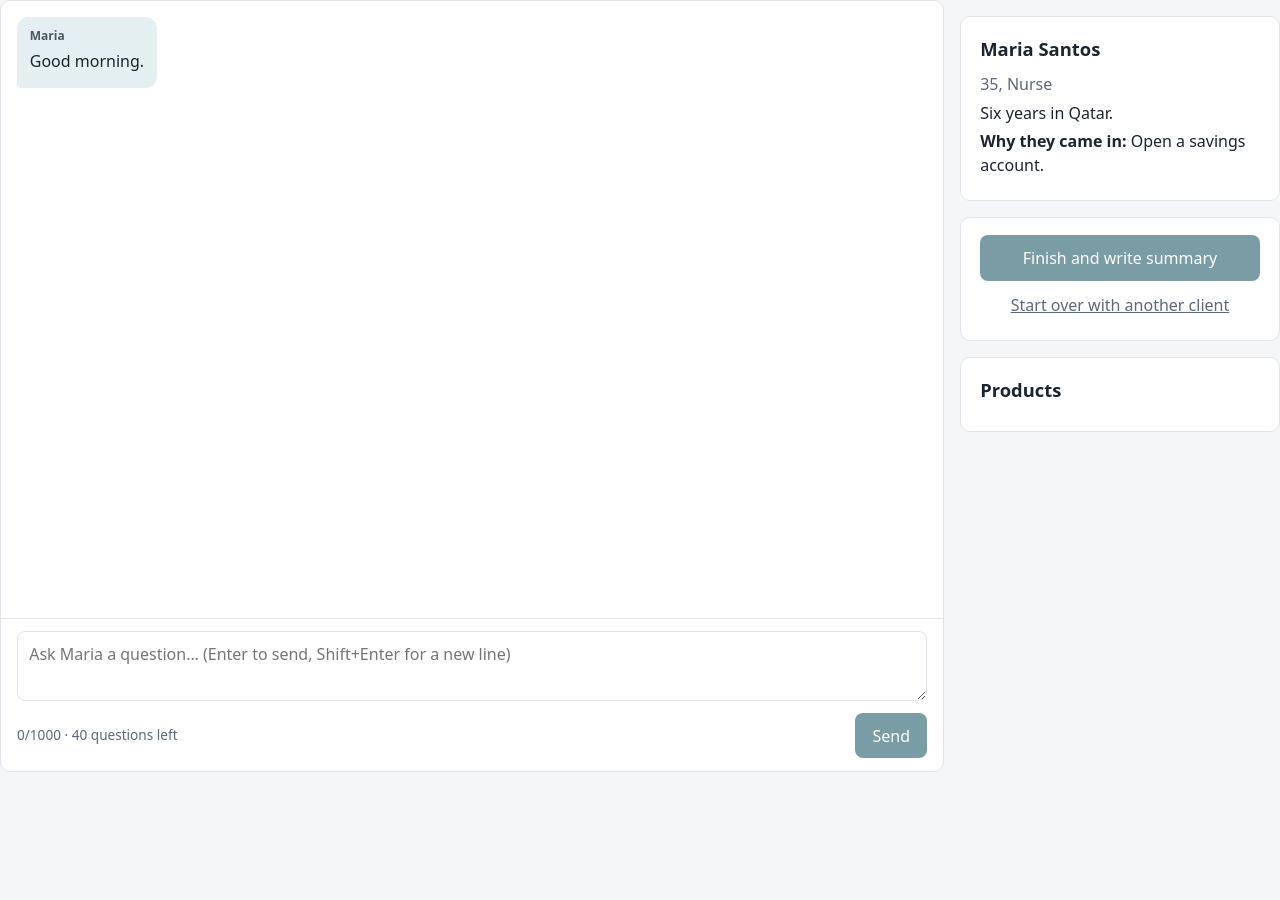
Test case: interview › puts the question back in the box when the model is down
The image size is (1280, 900).
Type "What are you saving for?" into the text box named "Your question". click: x=472, y=666
box: [17,631,927,701]
Then press Enter
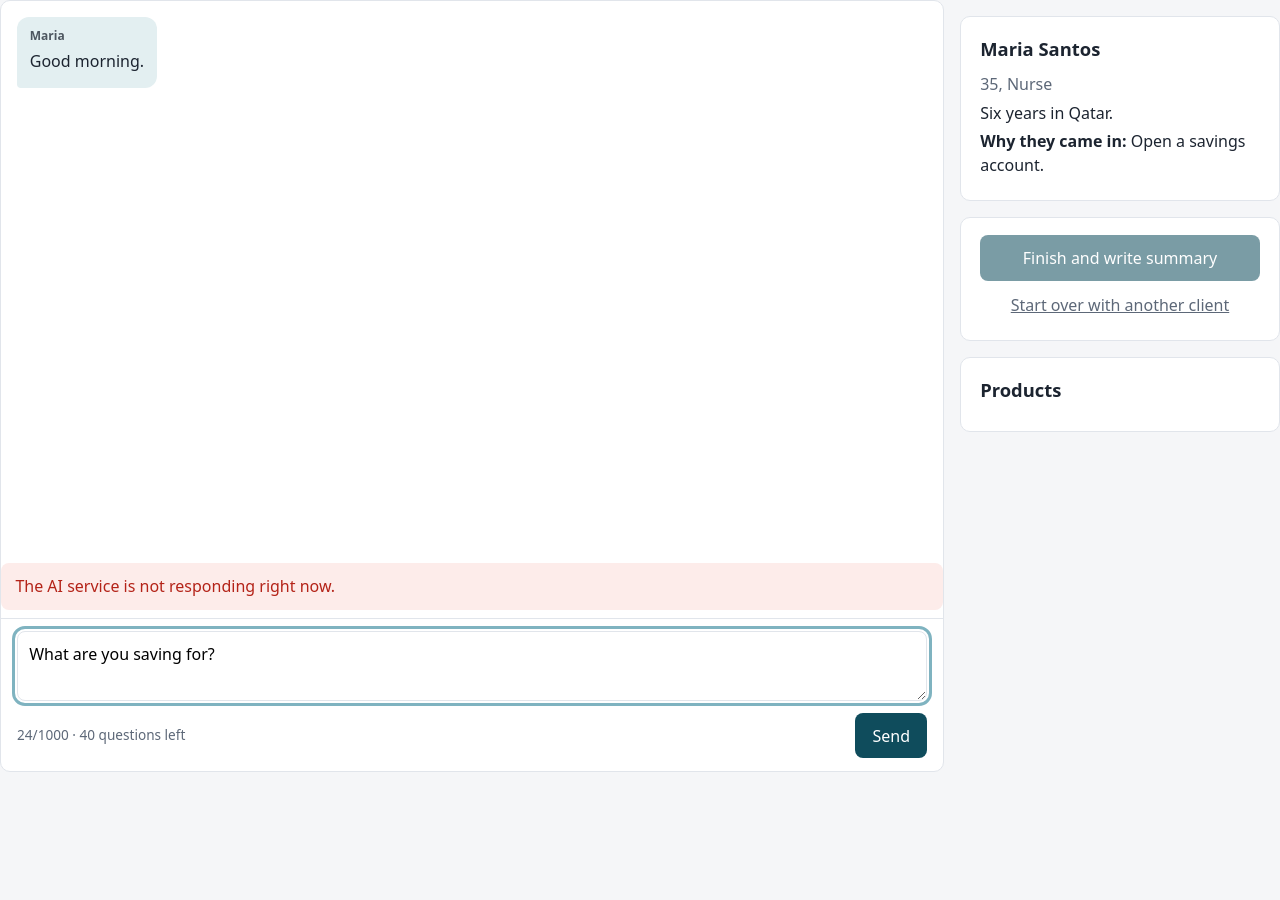
Expected: the message reads "The AI service is not responding right now.", [15,576,335,598]
